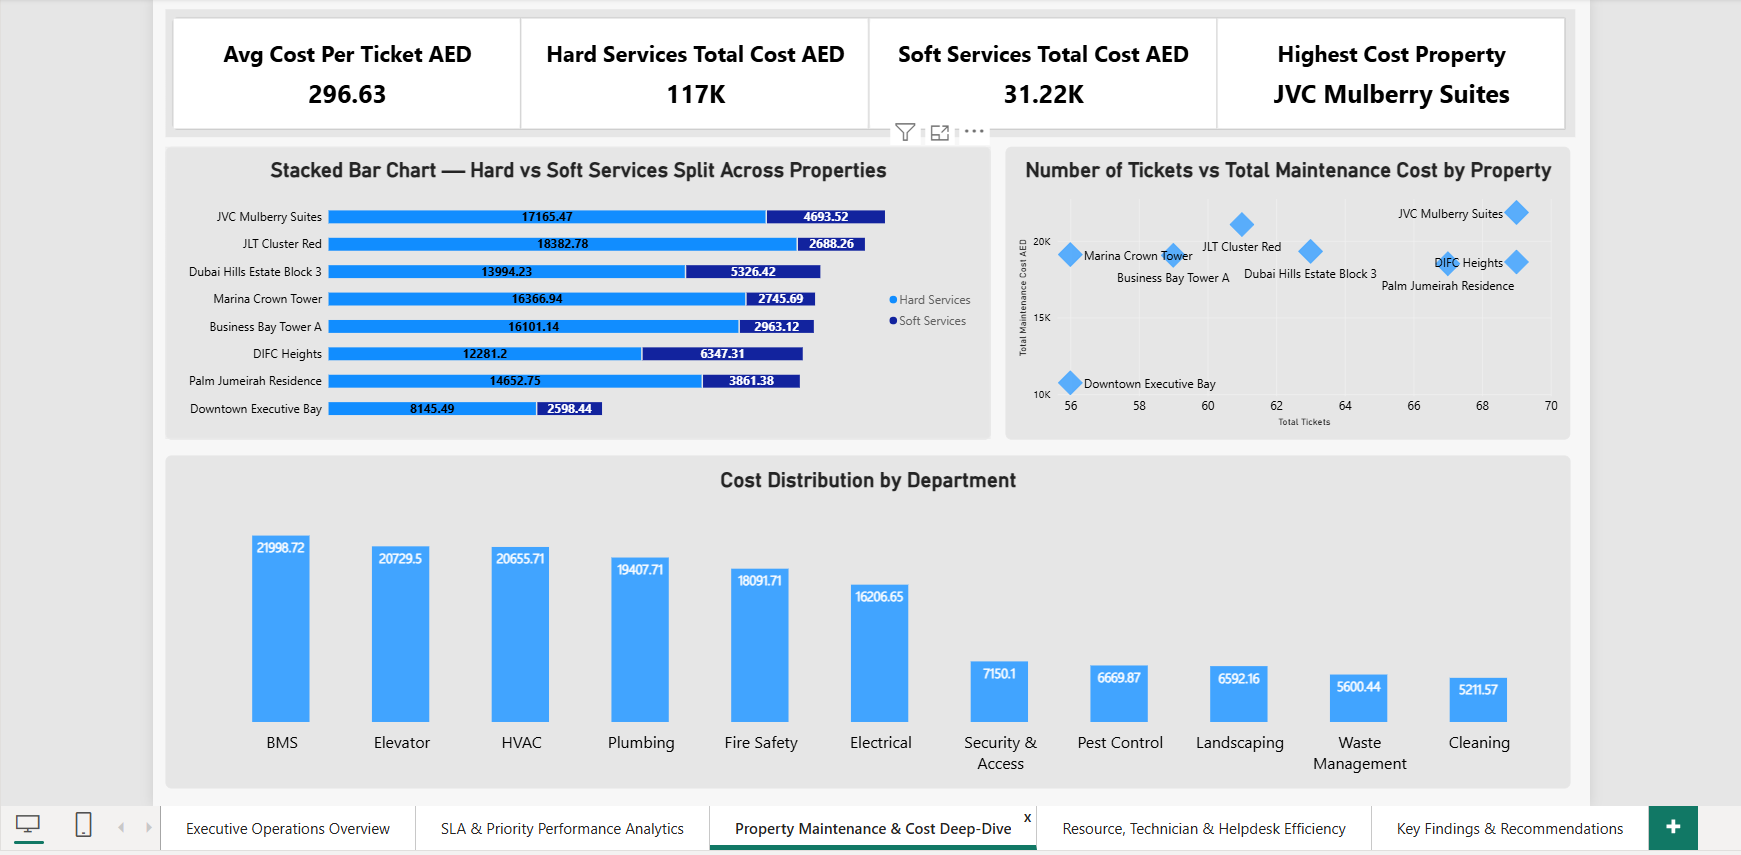

What the dashboard file says about the page in this screenshot:
{"tool":"powerbi","page":{"name":"Property Maintenance & Cost Deep-Dive","canvas":[1920,1080],"ordinal":2},"visuals":[{"type":"shape","box":[16.5,14.4,1883.4,170.8],"z":0},{"type":"cardVisual","fields":{"Data":["_Measures.Avg Cost Per Ticket AED","CAFM_Master_Enterprise_Dataset_500.Hard Services Total Cost AED","CAFM_Master_Enterprise_Dataset_500.Soft Services Total Cost AED","CAFM_Master_Enterprise_Dataset_500.Highest Cost Property"]},"box":[24.7,24.7,1866.9,152.3],"z":1000},{"type":"treemap","title":"Cost Distribution by Department","fields":{"Group":["CAFM_Master_Enterprise_Dataset_500.Department"],"Values":["CAFM_Master_Enterprise_Dataset_500.Total Maintenance Cost AED"]},"box":[16.3,611.7,1876.6,445.2],"z":2000},{"type":"scatterChart","title":"Number of Tickets vs Total Maintenance Cost by Property","fields":{"Category":["CAFM_Master_Enterprise_Dataset_500.Property_Name"],"X":["_Measures.Total Tickets"],"Y":["CAFM_Master_Enterprise_Dataset_500.Total Maintenance Cost AED"]},"box":[1138.3,199.1,754.6,390.9],"z":3000},{"type":"barChart","title":"Stacked Bar Chart — Hard vs Soft Services Split Across Properties","fields":{"Category":["CAFM_Master_Enterprise_Dataset_500.Property_Name"],"Series":["CAFM_Master_Enterprise_Dataset_500.Service_Category"],"Y":["CAFM_Master_Enterprise_Dataset_500.Total Maintenance Cost AED"]},"box":[16.3,199.1,1102.1,390.9],"z":4000}]}

Visuals, with their boxes on the page's 1920x1080 design canvas (x1, y1, x2, y2). These are canvas units, not pixel positions in the 1741x855 screenshot, which may show the page scaled, cropped or inside an application window:
shape: <box>16,14,1900,185</box>
cardVisual - _Measures.Avg Cost Per Ticket AED x CAFM_Master_Enterprise_Dataset_500.Hard Services Total Cost AED: <box>25,25,1892,177</box>
"Cost Distribution by Department" treemap: <box>16,612,1893,1057</box>
"Number of Tickets vs Total Maintenance Cost by Property" scatterChart: <box>1138,199,1893,590</box>
"Stacked Bar Chart — Hard vs Soft Services Split Across Properties" barChart: <box>16,199,1118,590</box>
